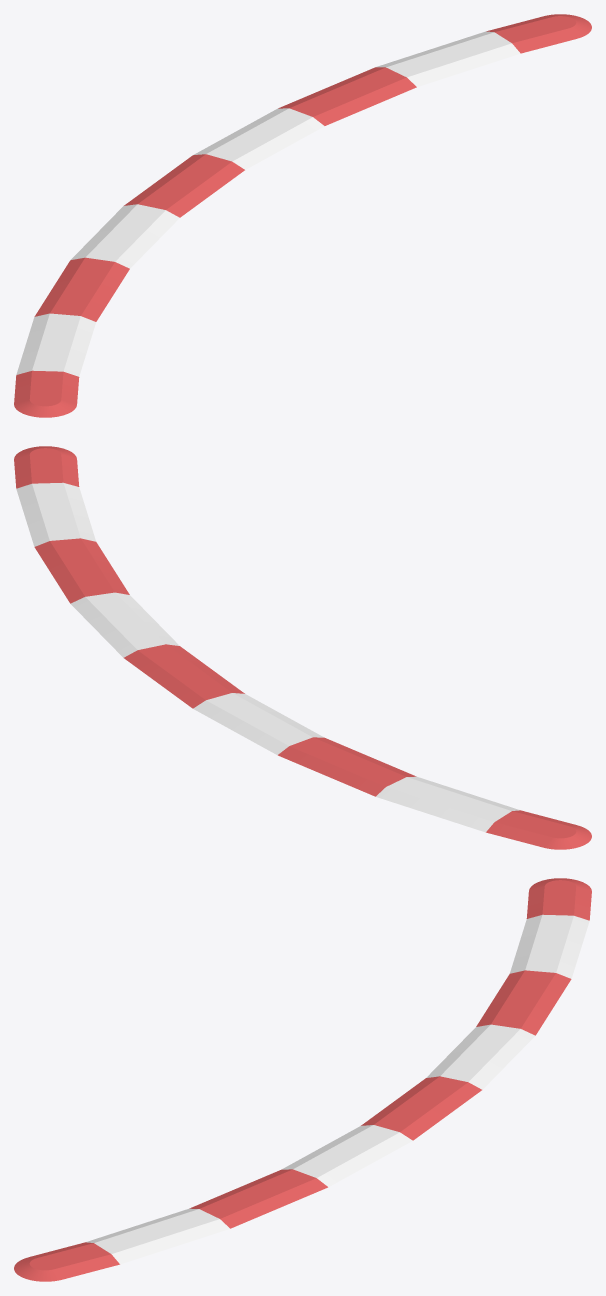
File: RacelineCurveGentleInner.glb
3 renders of one model, top to bottom at view 1: azimuth 90°, elevation 25°; view 2: azimuth 150°, elevation 25°; view 3: azimuth 270°, elevation 25°, orthographic.
Parts seen in each view (by area): view 1: object1; view 2: object1; view 3: object1.
Boxes of the visible parts, x1,y1,x2,y2 form: object1: [14, 14, 591, 417]; object1: [14, 446, 591, 849]; object1: [14, 878, 591, 1281].
Size of the model in its own units: 0.5992 by 0.0033 by 0.3627.
